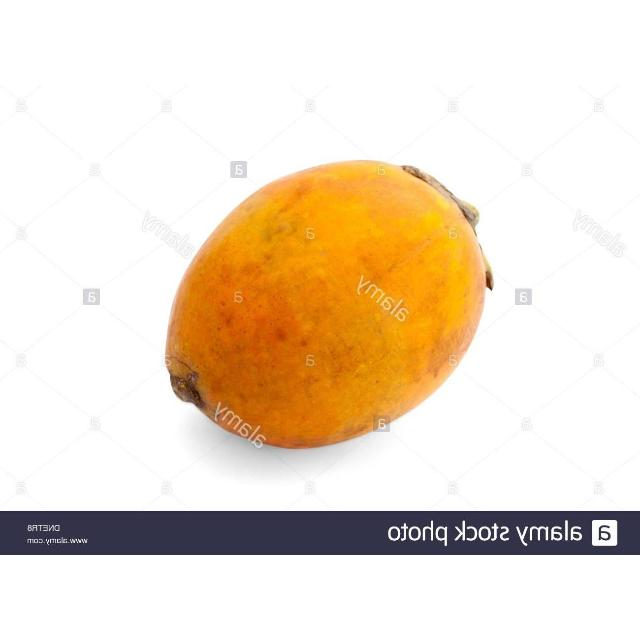good: (163, 160, 490, 451)
